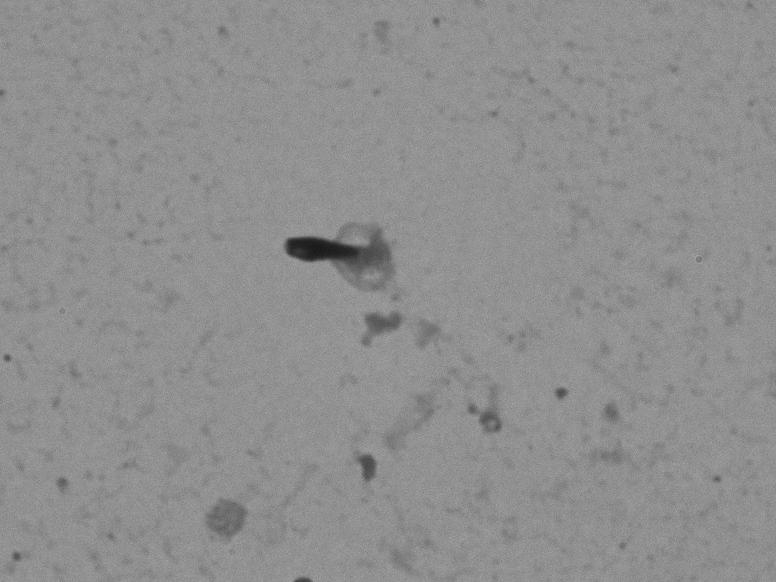Abnormal: (250, 176, 433, 308)
